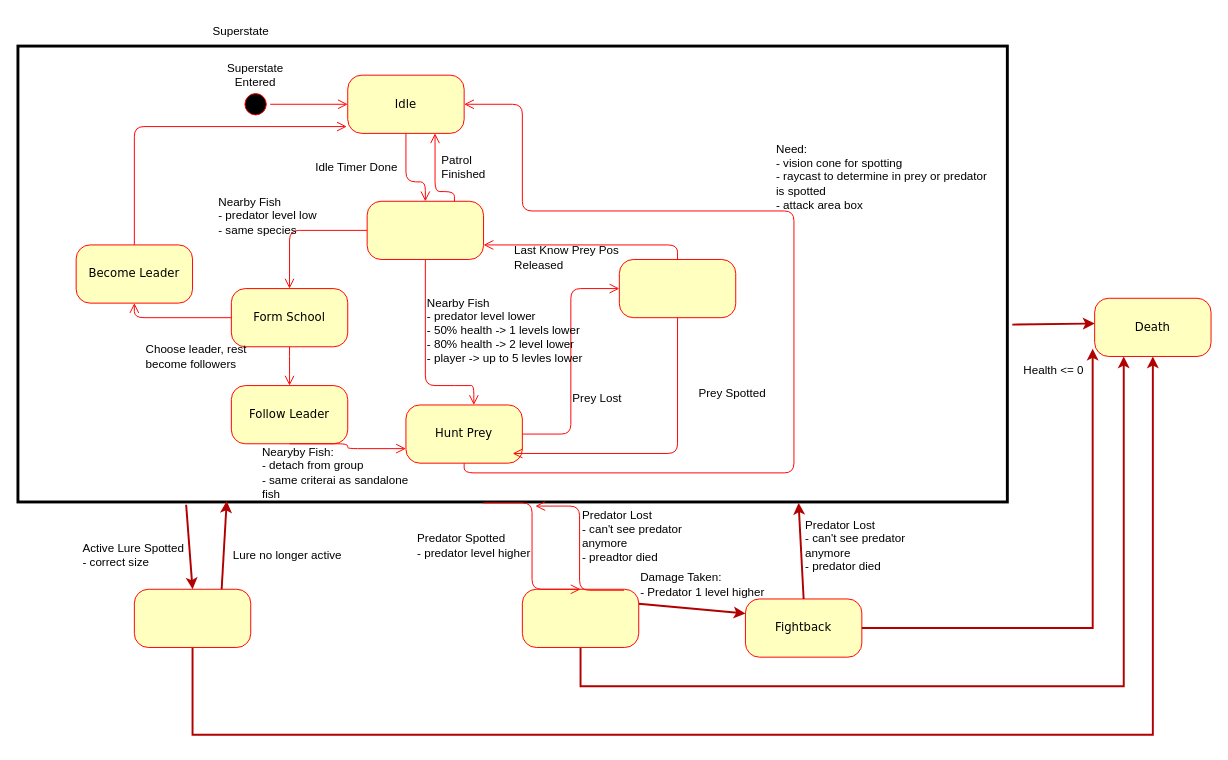
The diagram is 1228 pixels wide and 760 high, and some of its shapes have lost their labels. The centre of each missing label's shape, as x and y in pixels:
"Flee" belongs at (580,617).
"Lured" belongs at (192,617).
"Search" belongs at (677,288).
"Wander" belongs at (425,229).
